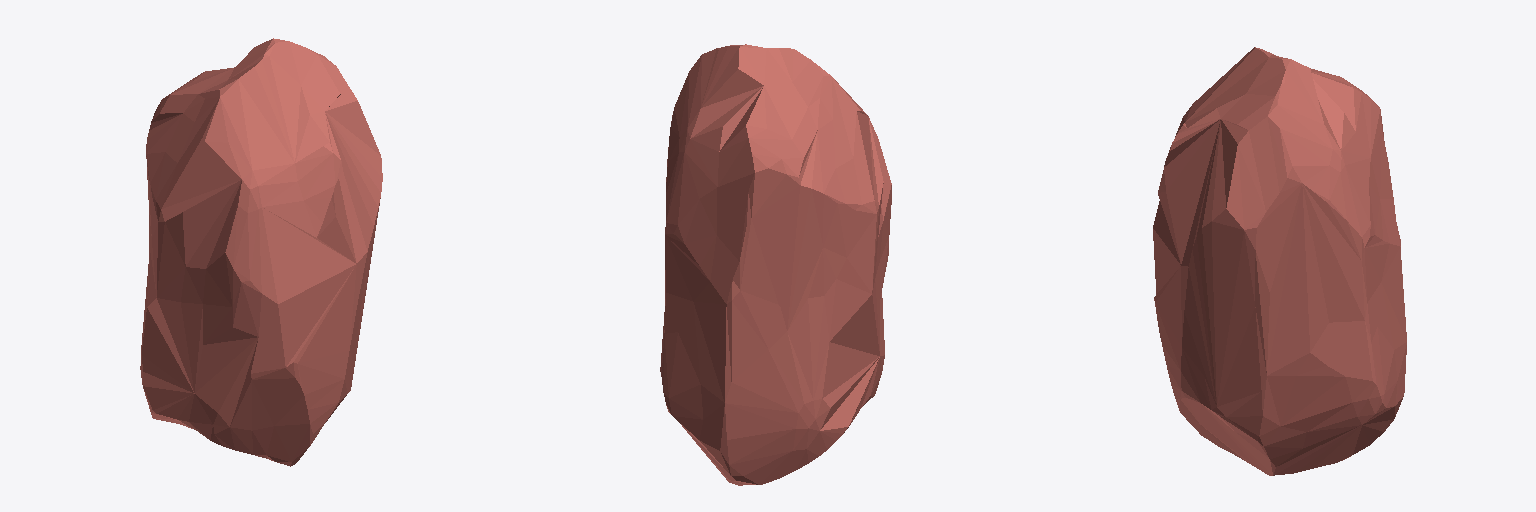
The model's file is Boulder.obj.
3 views of the same model, side by side, from view 1: azimuth 30°, elevation 25°; view 2: azimuth 150°, elevation 25°; view 3: azimuth 270°, elevation 25° (orthographic).
Visible parts, largest first — view 1: rock_1_Cube; view 2: rock_1_Cube; view 3: rock_1_Cube.
Boxes of the visible parts, x1=… form: rock_1_Cube: x1=140, y1=38, x2=382, y2=466; rock_1_Cube: x1=660, y1=44, x2=891, y2=485; rock_1_Cube: x1=1153, y1=47, x2=1406, y2=475.
Bounding box in the file's own units: 12.45 × 23.94 × 13.27.